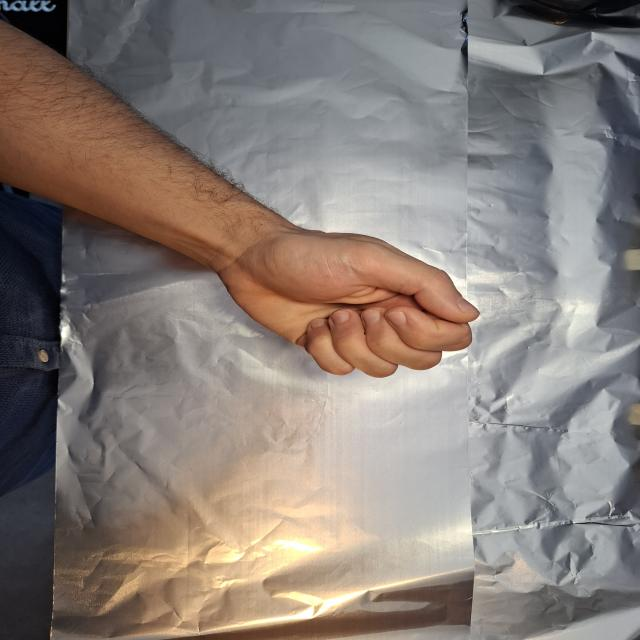glove_off: (201, 207, 484, 382)
